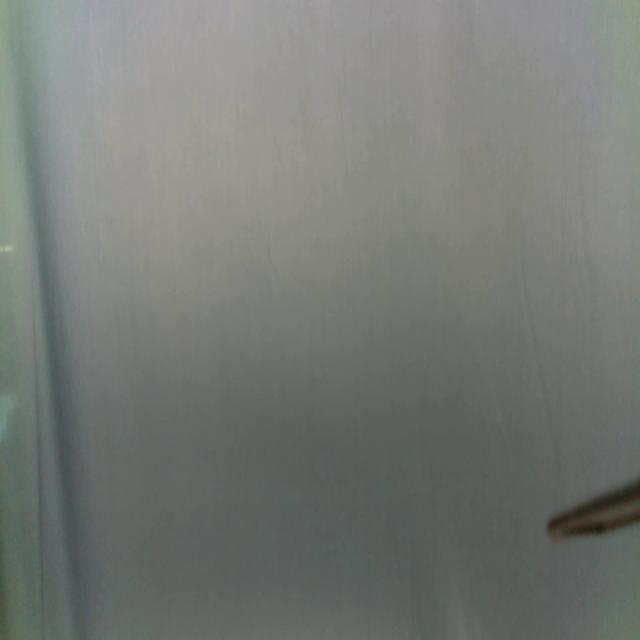crease: (30, 272, 46, 640)
